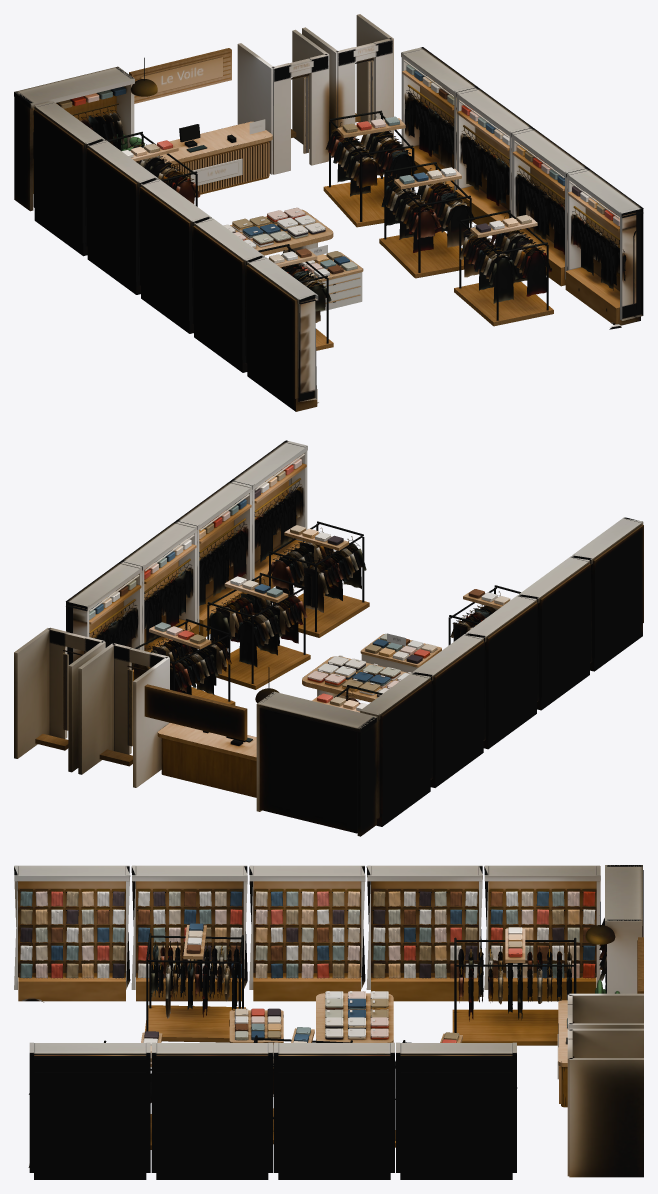
File: kit.glb
3 renders of one model, top to bottom at view 1: azimuth 30°, elevation 25°; view 2: azimuth 150°, elevation 25°; view 3: azimuth 270°, elevation 25°, orthographic. The views are drawn at different scales.
Parts seen in each view (by area): view 1: kit_fitting_store_fixtures, kit_scarfbay_5_store_fixtures, kit_hangbay_4_store_fixtures, kit_scarfbay_2_store_fixtures, kit_scarfbay_4_store_fixtures, kit_scarfbay_1_store_fixtures, kit_scarfbay_3_store_fixtures, kit_counter_store_fixtures, kit_reardisplay_store_fixtures, kit_rack_5_store_soft, kit_rack_4_store_soft, kit_hangbay_2_store_fixtures (+25 smaller); view 2: kit_fitting_store_fixtures, kit_reardisplay_store_fixtures, kit_scarfbay_3_store_fixtures, kit_scarfbay_2_store_fixtures, kit_scarfbay_4_store_fixtures, kit_scarfbay_1_store_fixtures, kit_scarfbay_5_store_fixtures, kit_counter_store_fixtures, kit_rack_4_store_soft, kit_rack_5_store_soft, kit_hangbay_3_store_fixtures, kit_hangbay_4_store_fixtures (+20 smaller); view 3: kit_hangbay_4_store_fixtures, kit_hangbay_3_store_fixtures, kit_hangbay_2_store_fixtures, kit_hangbay_1_store_fixtures, kit_fitting_store_fixtures, kit_scarfbay_5_store_fixtures, kit_scarfbay_3_store_fixtures, kit_scarfbay_2_store_fixtures, kit_scarfbay_1_store_fixtures, kit_scarfbay_3_store_soft, kit_scarfbay_5_store_soft, kit_scarfbay_4_store_fixtures (+21 smaller).
Part boxes in pixels (x1,y1,x2,y2): kit_fitting_store_fixtures: (237,14,393,174); kit_scarfbay_5_store_fixtures: (246,257,318,411); kit_hangbay_4_store_fixtures: (565,168,643,329); kit_scarfbay_2_store_fixtures: (86,140,158,294); kit_scarfbay_4_store_fixtures: (193,218,264,372); kit_scarfbay_1_store_fixtures: (33,101,105,256); kit_scarfbay_3_store_fixtures: (140,179,211,333); kit_counter_store_fixtures: (136,75,273,195); kit_reardisplay_store_fixtures: (14,66,139,211); kit_rack_5_store_soft: (459,215,551,303); kit_rack_4_store_soft: (381,167,474,252); kit_hangbay_2_store_fixtures: (455,87,532,235); kit_fitting_store_fixtures: (14,627,169,787); kit_reardisplay_store_fixtures: (256,691,379,836); kit_scarfbay_3_store_fixtures: (466,595,537,749); kit_scarfbay_2_store_fixtures: (413,633,484,787); kit_scarfbay_4_store_fixtures: (519,556,590,710); kit_scarfbay_1_store_fixtures: (360,672,431,826); kit_scarfbay_5_store_fixtures: (572,517,643,671); kit_counter_store_fixtures: (157,723,256,797); kit_rack_4_store_soft: (206,576,307,667); kit_rack_5_store_soft: (267,525,366,612); kit_hangbay_3_store_fixtures: (176,480,252,636); kit_hangbay_4_store_fixtures: (231,440,307,588); kit_hangbay_4_store_fixtures: (28,1042,150,1179); kit_hangbay_3_store_fixtures: (151,1042,272,1179); kit_hangbay_2_store_fixtures: (273,1042,394,1179); kit_hangbay_1_store_fixtures: (396,1042,516,1179); kit_fitting_store_fixtures: (567,993,643,1177); kit_scarfbay_5_store_fixtures: (14,865,130,1002); kit_scarfbay_3_store_fixtures: (249,865,365,1001); kit_scarfbay_2_store_fixtures: (366,865,482,1001); kit_scarfbay_1_store_fixtures: (484,865,600,1001); kit_scarfbay_3_store_soft: (255,891,359,978); kit_scarfbay_5_store_soft: (20,891,124,978); kit_scarfbay_4_store_fixtures: (131,865,247,1001).
Size of the model in its own units: 9.99 by 3.62 by 13.93.
3 materials, 3 textured.
